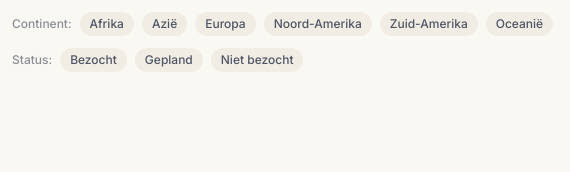
Test: CountryFilters › shows a Reset button only when a filter is active, and resets on click
The image size is (570, 172).
Check: the button "Wissen" is not shown
Click the button "Gepland": (169, 60) [135,48,203,72]
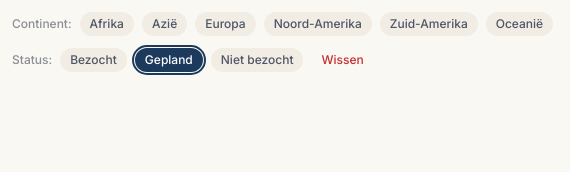
Check: the button "Wissen" is shown
Click the button "Wissen": (343, 60) [312,48,374,72]
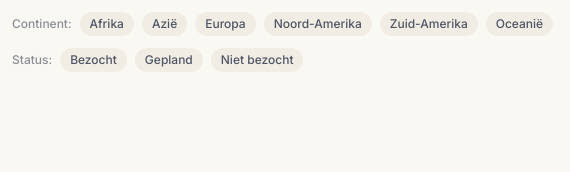
Check: the button "Wissen" is gone
